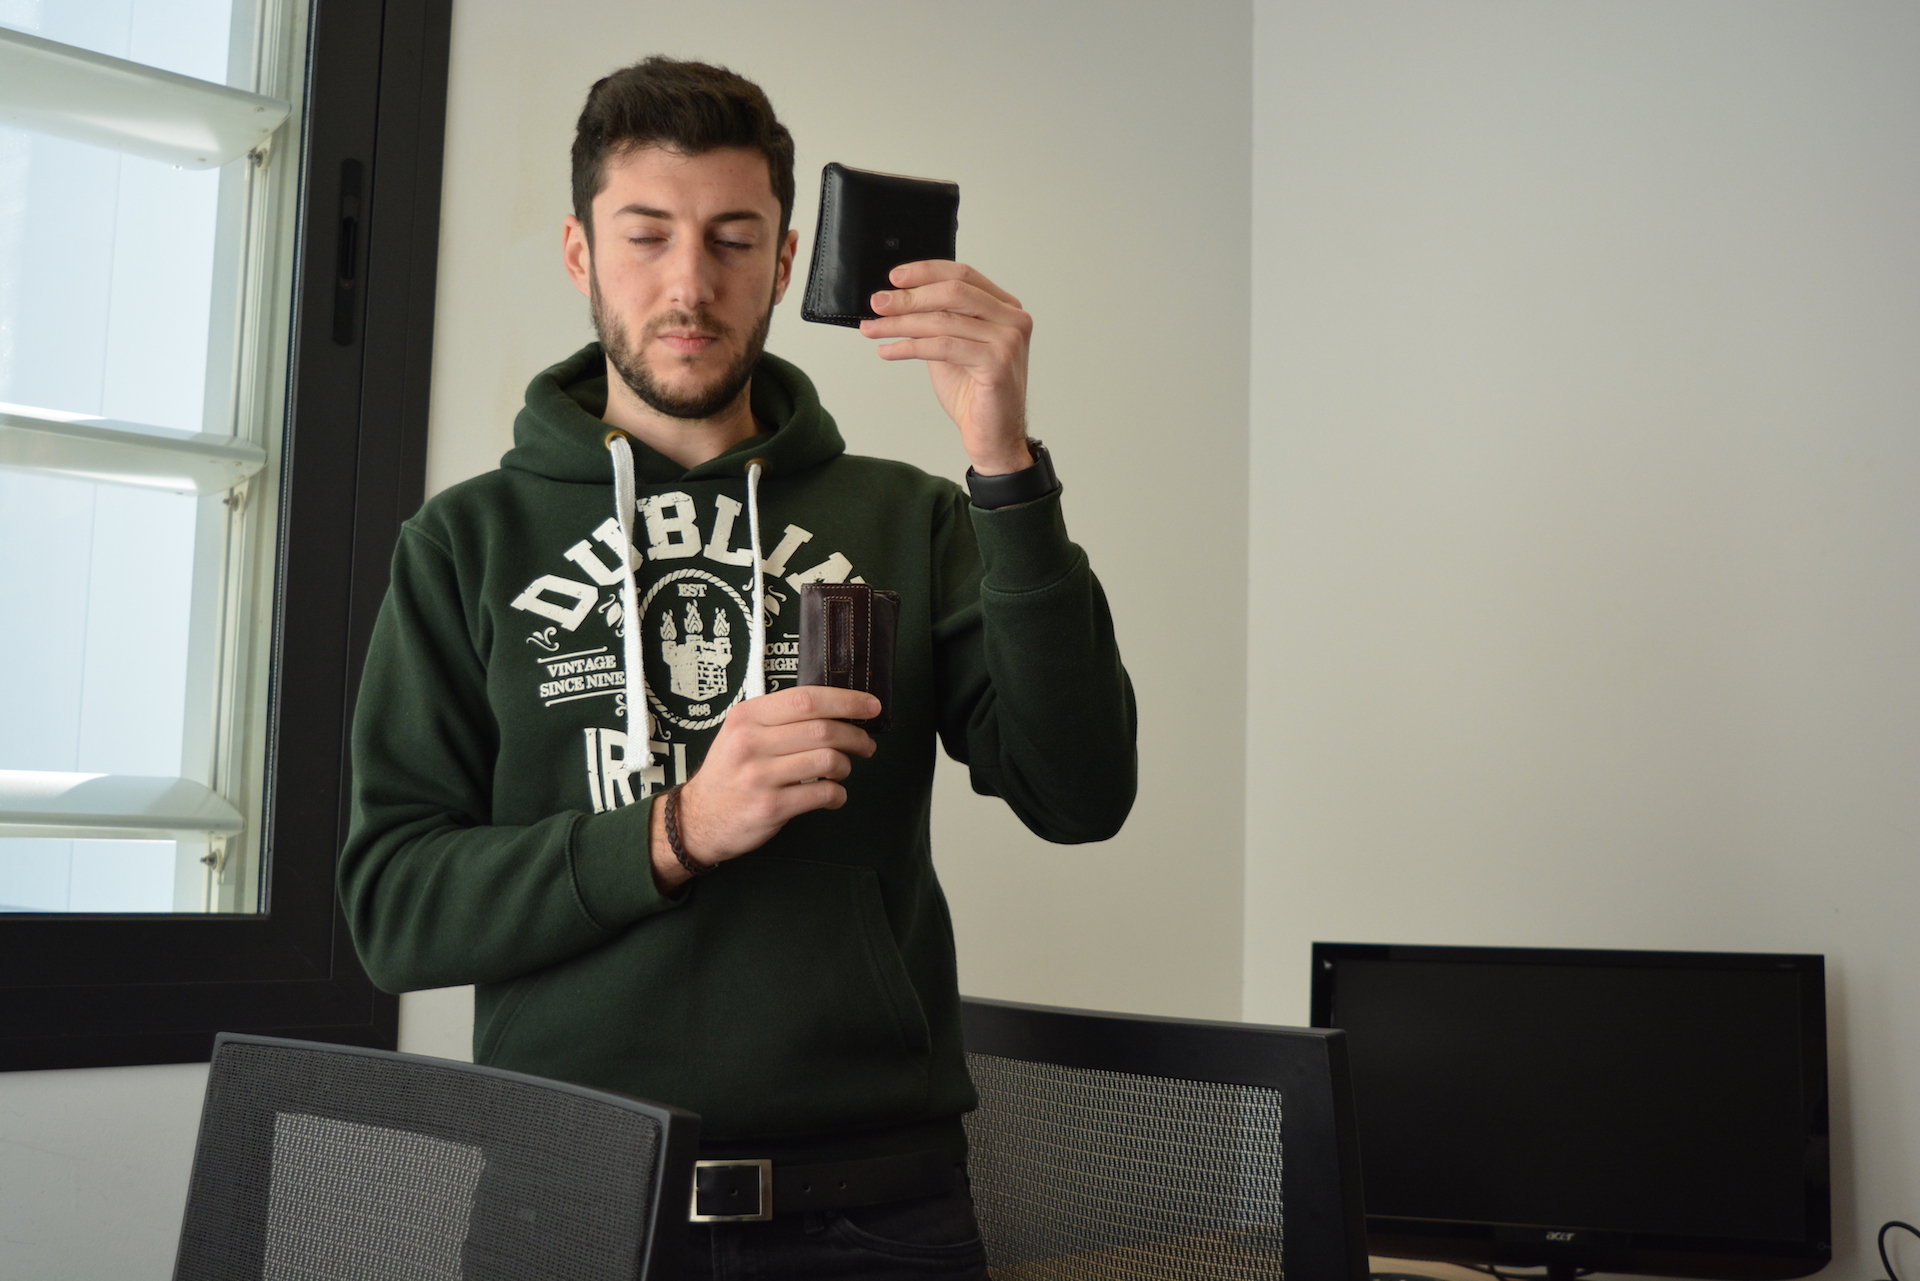monedero: (801, 162, 962, 332), (796, 580, 902, 736)
